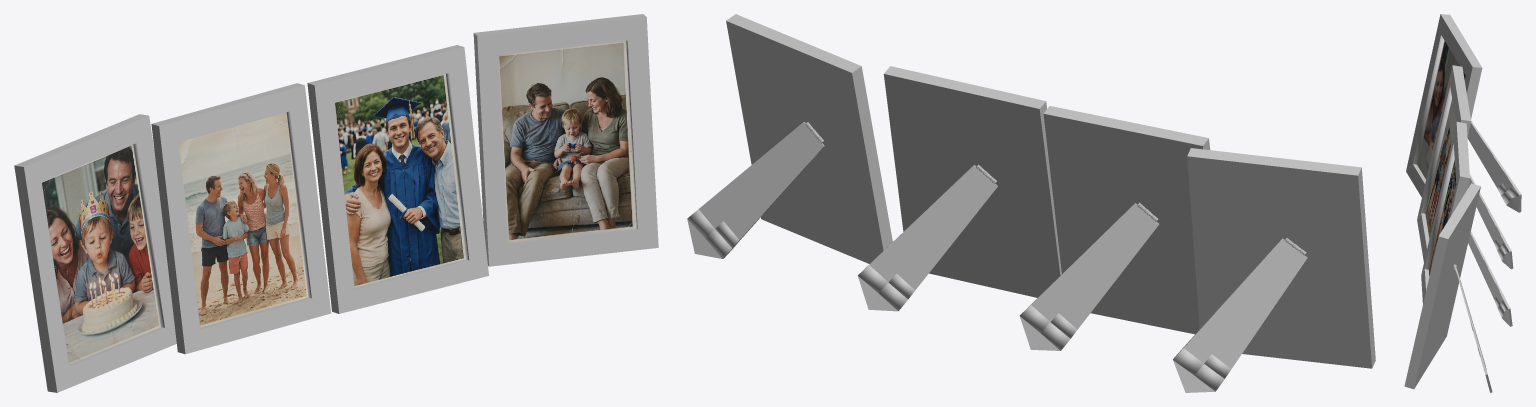
File: GenericProp-FramedPhoto.fbx
The picture shows the model from 3 angles, left to right: view 1: azimuth 30°, elevation 25°; view 2: azimuth 150°, elevation 25°; view 3: azimuth 270°, elevation 25°; orthographic projection. The views are drawn at different scales.
Visible parts, largest first — view 1: fAMILY PHOTOS; view 2: fAMILY PHOTOS; view 3: fAMILY PHOTOS.
Part boxes in pixels (bbox=[...]): fAMILY PHOTOS: bbox=[14, 14, 658, 392]; fAMILY PHOTOS: bbox=[687, 14, 1375, 392]; fAMILY PHOTOS: bbox=[1404, 14, 1521, 392].
Bounding box in the file's own units: 138 × 44.12 × 29.9.
